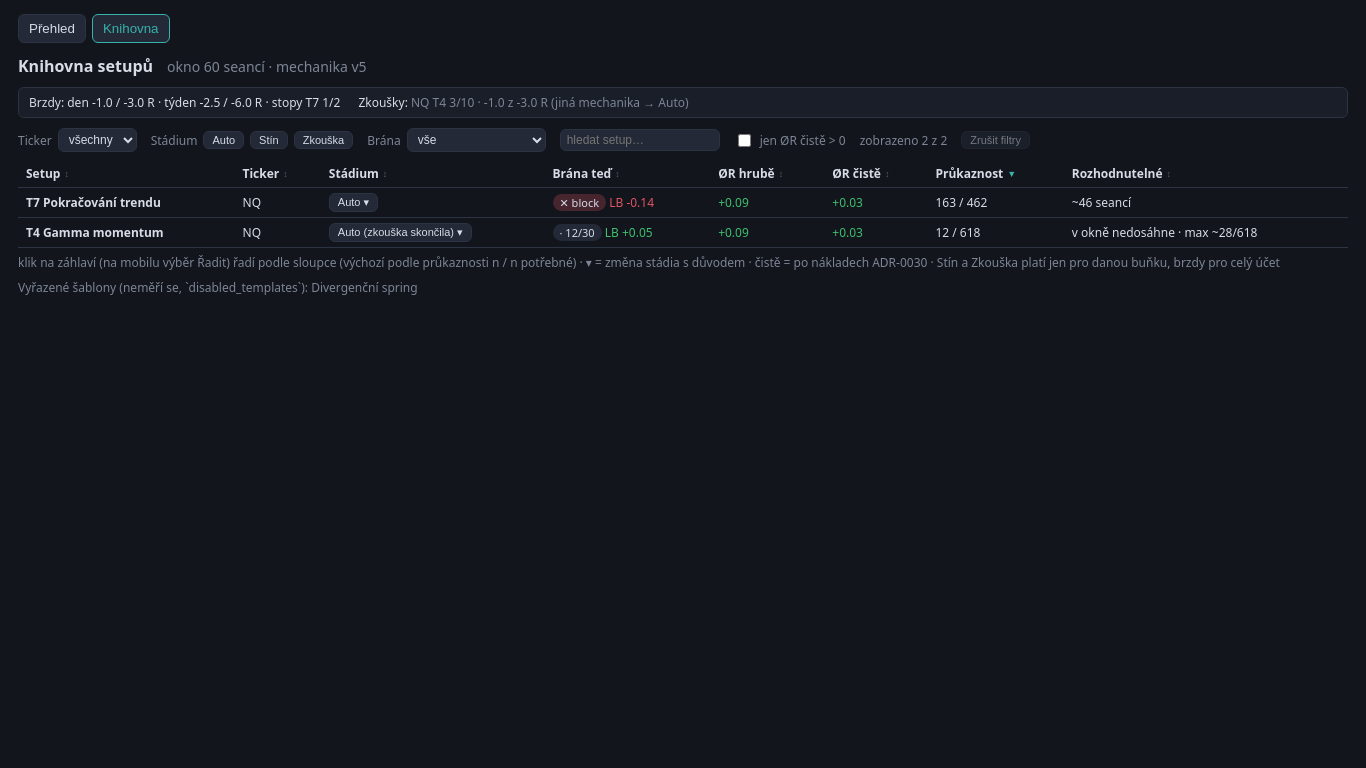
Scenario: zkouška skončená změnou mechaniky: Auto s důvodem v řádku, hlavičce i dialogu
Expected: the element with test id "library-row-NQ:gamma_momentum" does not show "3/10"
Expected: the element with test id "library-trials" shows "NQ T4 3/10 · -1.0 z -3.0 R (jiná mechanika → Auto)", [358,94,689,111]
What coordinates should you click on to do the following:
click the button with aria-label "Stádium T4 Gamma momentum · NQ"
I would click on:
 (400, 232)
Its box is [329,223,472,242].
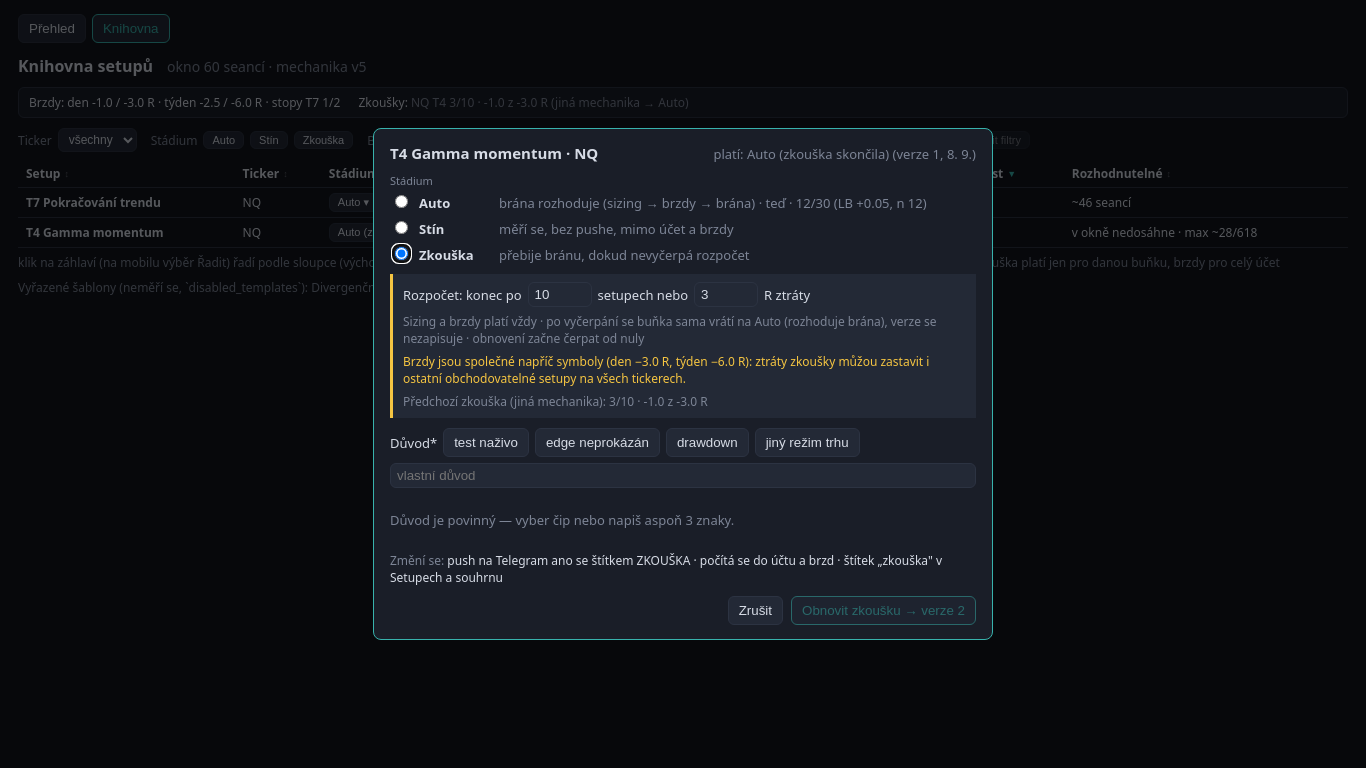
Result: the text with test id "stage-previous-trial" shows "Předchozí zkouška (jiná mechanika): 3/10" at [403,393,708,410]
